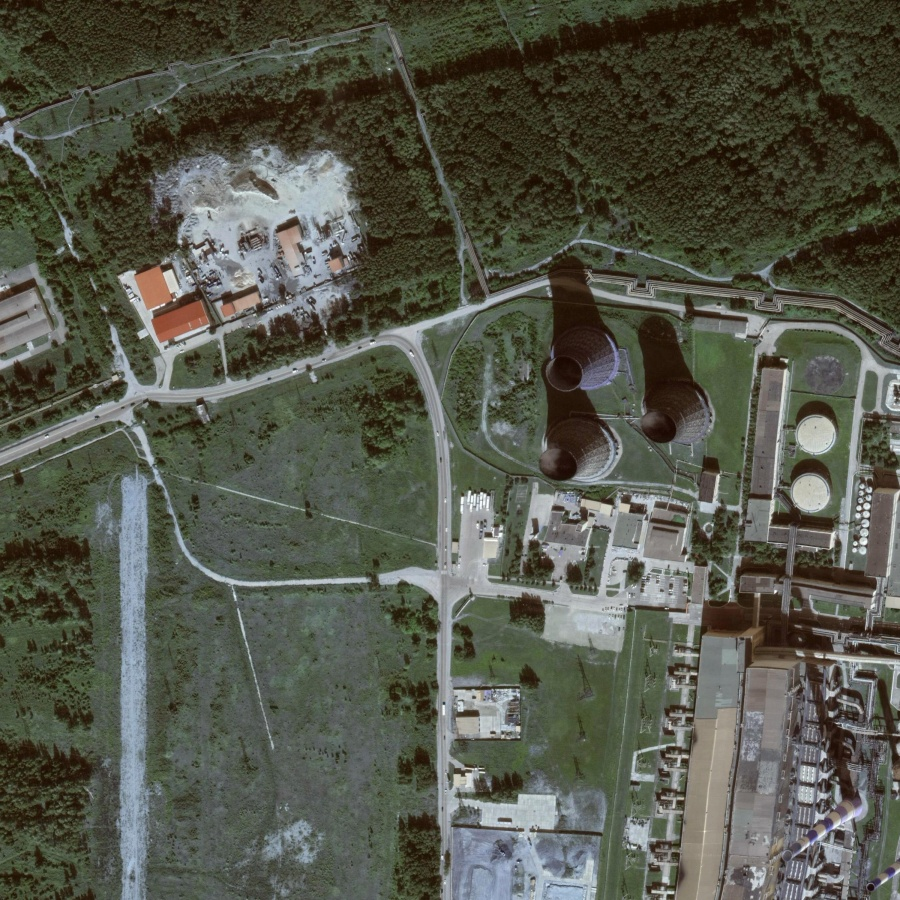PowerPlant: (526, 244, 858, 558)
